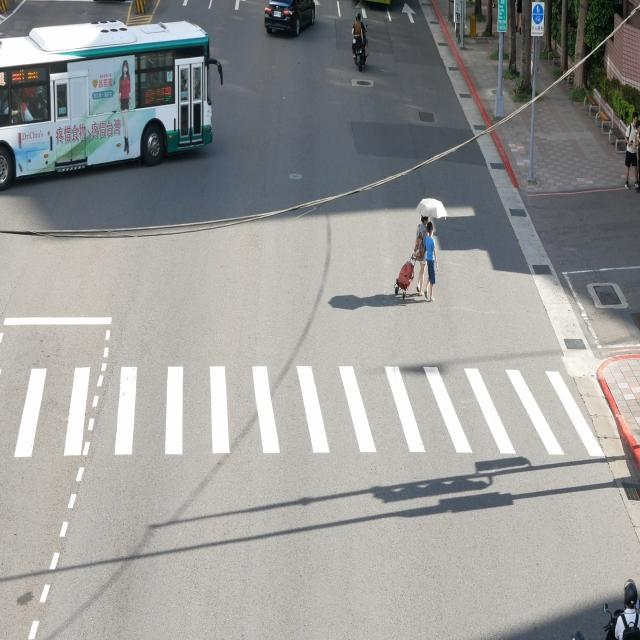pedestrian: (395, 216, 428, 298), (424, 222, 437, 300)
